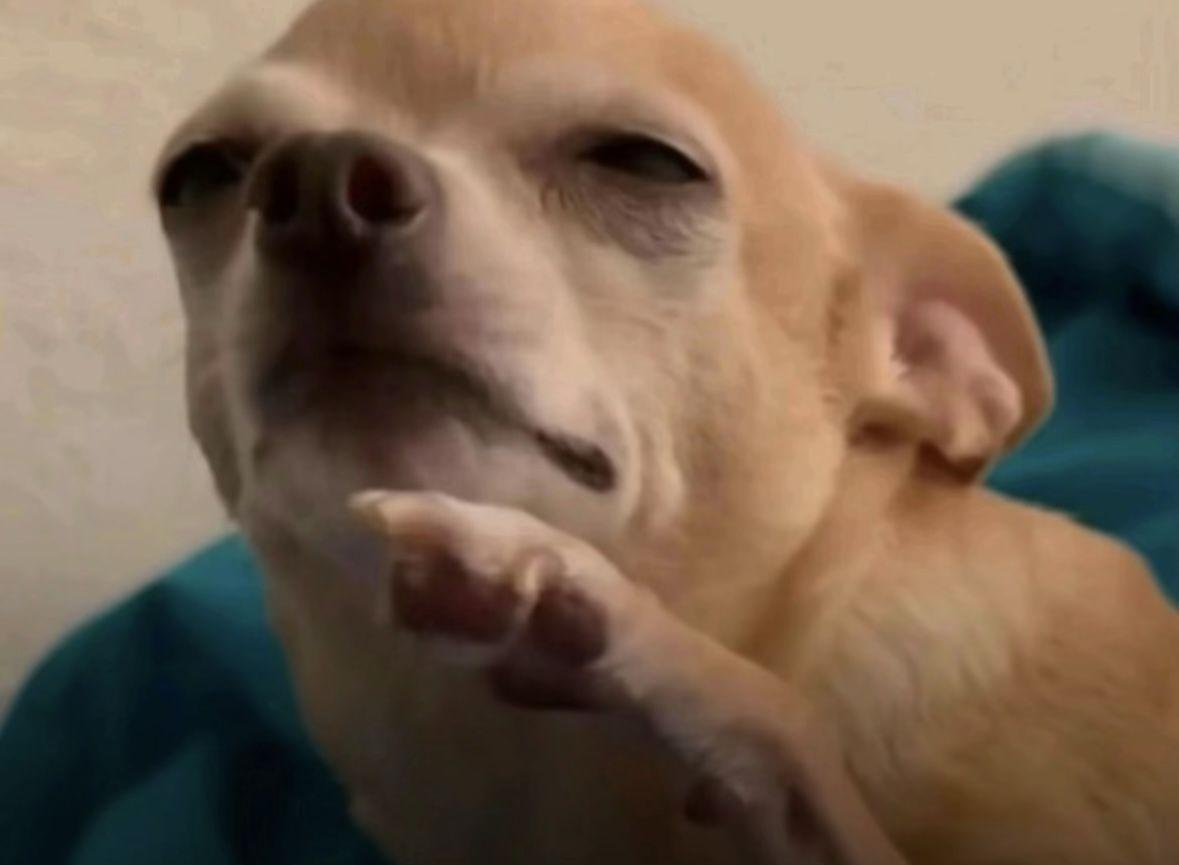adult_dog: (149, 0, 1179, 865)
